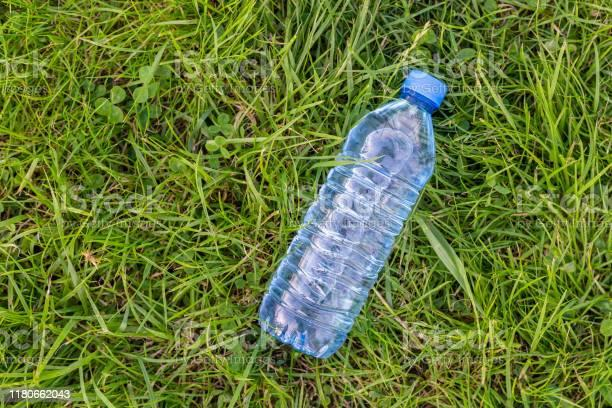bottle: (254, 62, 465, 351)
